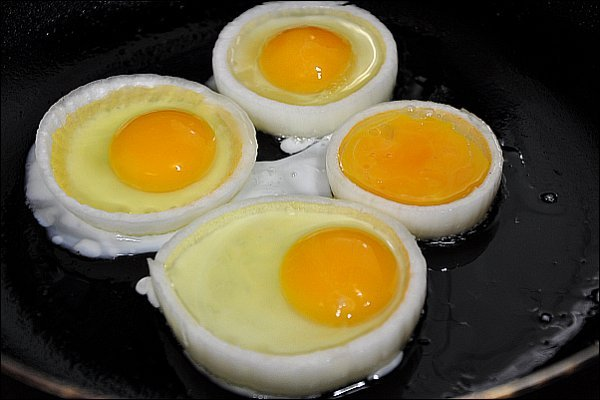gyelanhulai: (37, 70, 263, 230)
